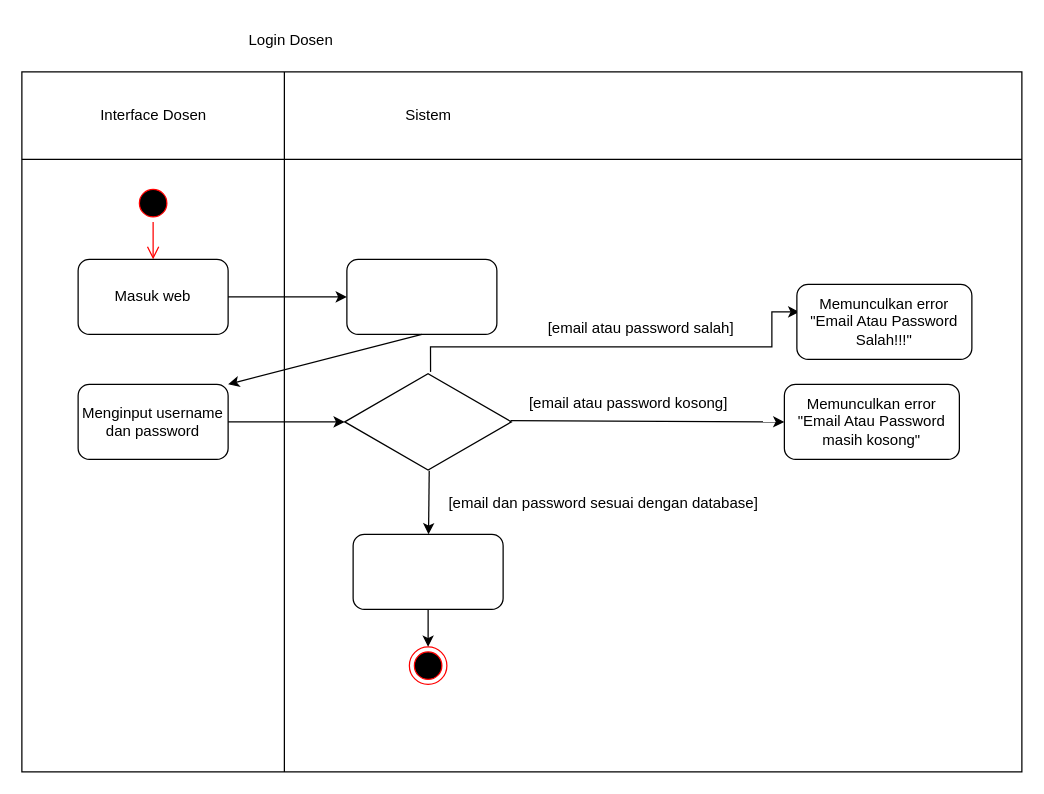
Some shapes in this 1044 by 794 pixel diagram are drawn without their labels. The shapes that lost their labels are listed below. From the top down, each one's centre as x and y in pixels, then its label:
At (421,296): "Menampilkan form login".
At (427,571): "Menampilkan menu Home".
